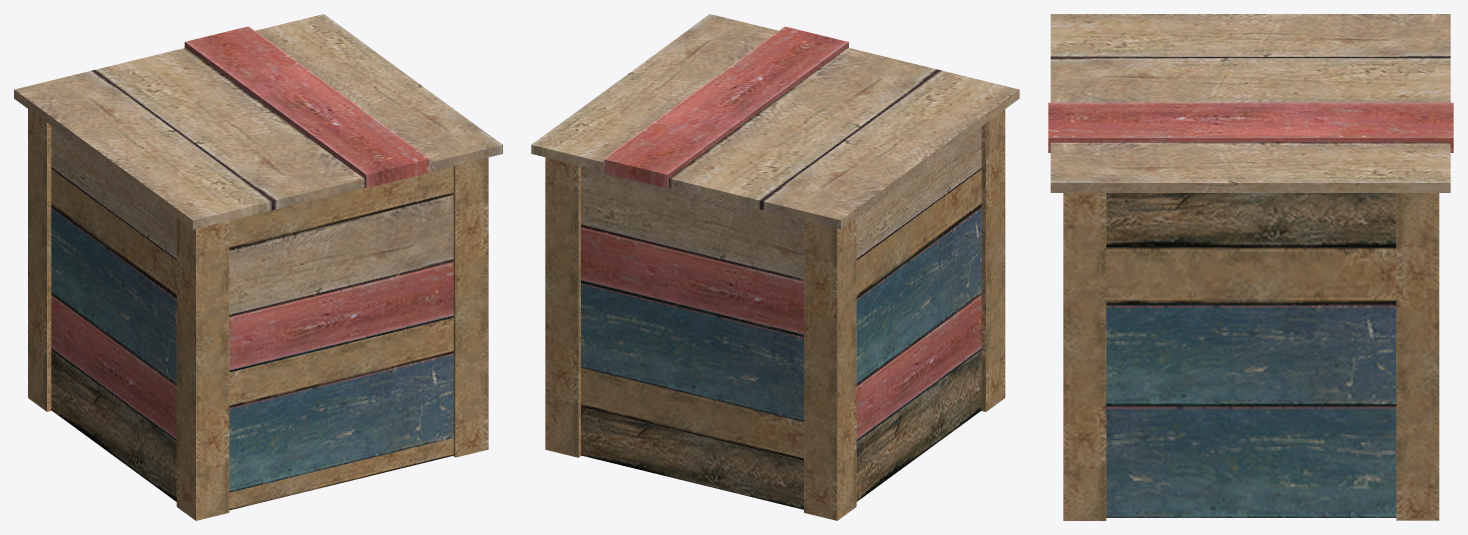
Rendered from Prop_Woodbox1.glb.
3 renders of one model, left to right at view 1: azimuth 30°, elevation 25°; view 2: azimuth 150°, elevation 25°; view 3: azimuth 270°, elevation 25°, orthographic. The views are drawn at different scales.
Visible parts, largest first — view 1: xiutz_woodbox1; view 2: xiutz_woodbox1; view 3: xiutz_woodbox1.
Boxes of the visible parts, bbox=[...] form: xiutz_woodbox1: bbox=[14, 14, 502, 520]; xiutz_woodbox1: bbox=[531, 14, 1019, 520]; xiutz_woodbox1: bbox=[1048, 14, 1453, 520].
Size of the model in its own units: 1.05 by 1.01 by 1.06.
1 material, 1 textured.
